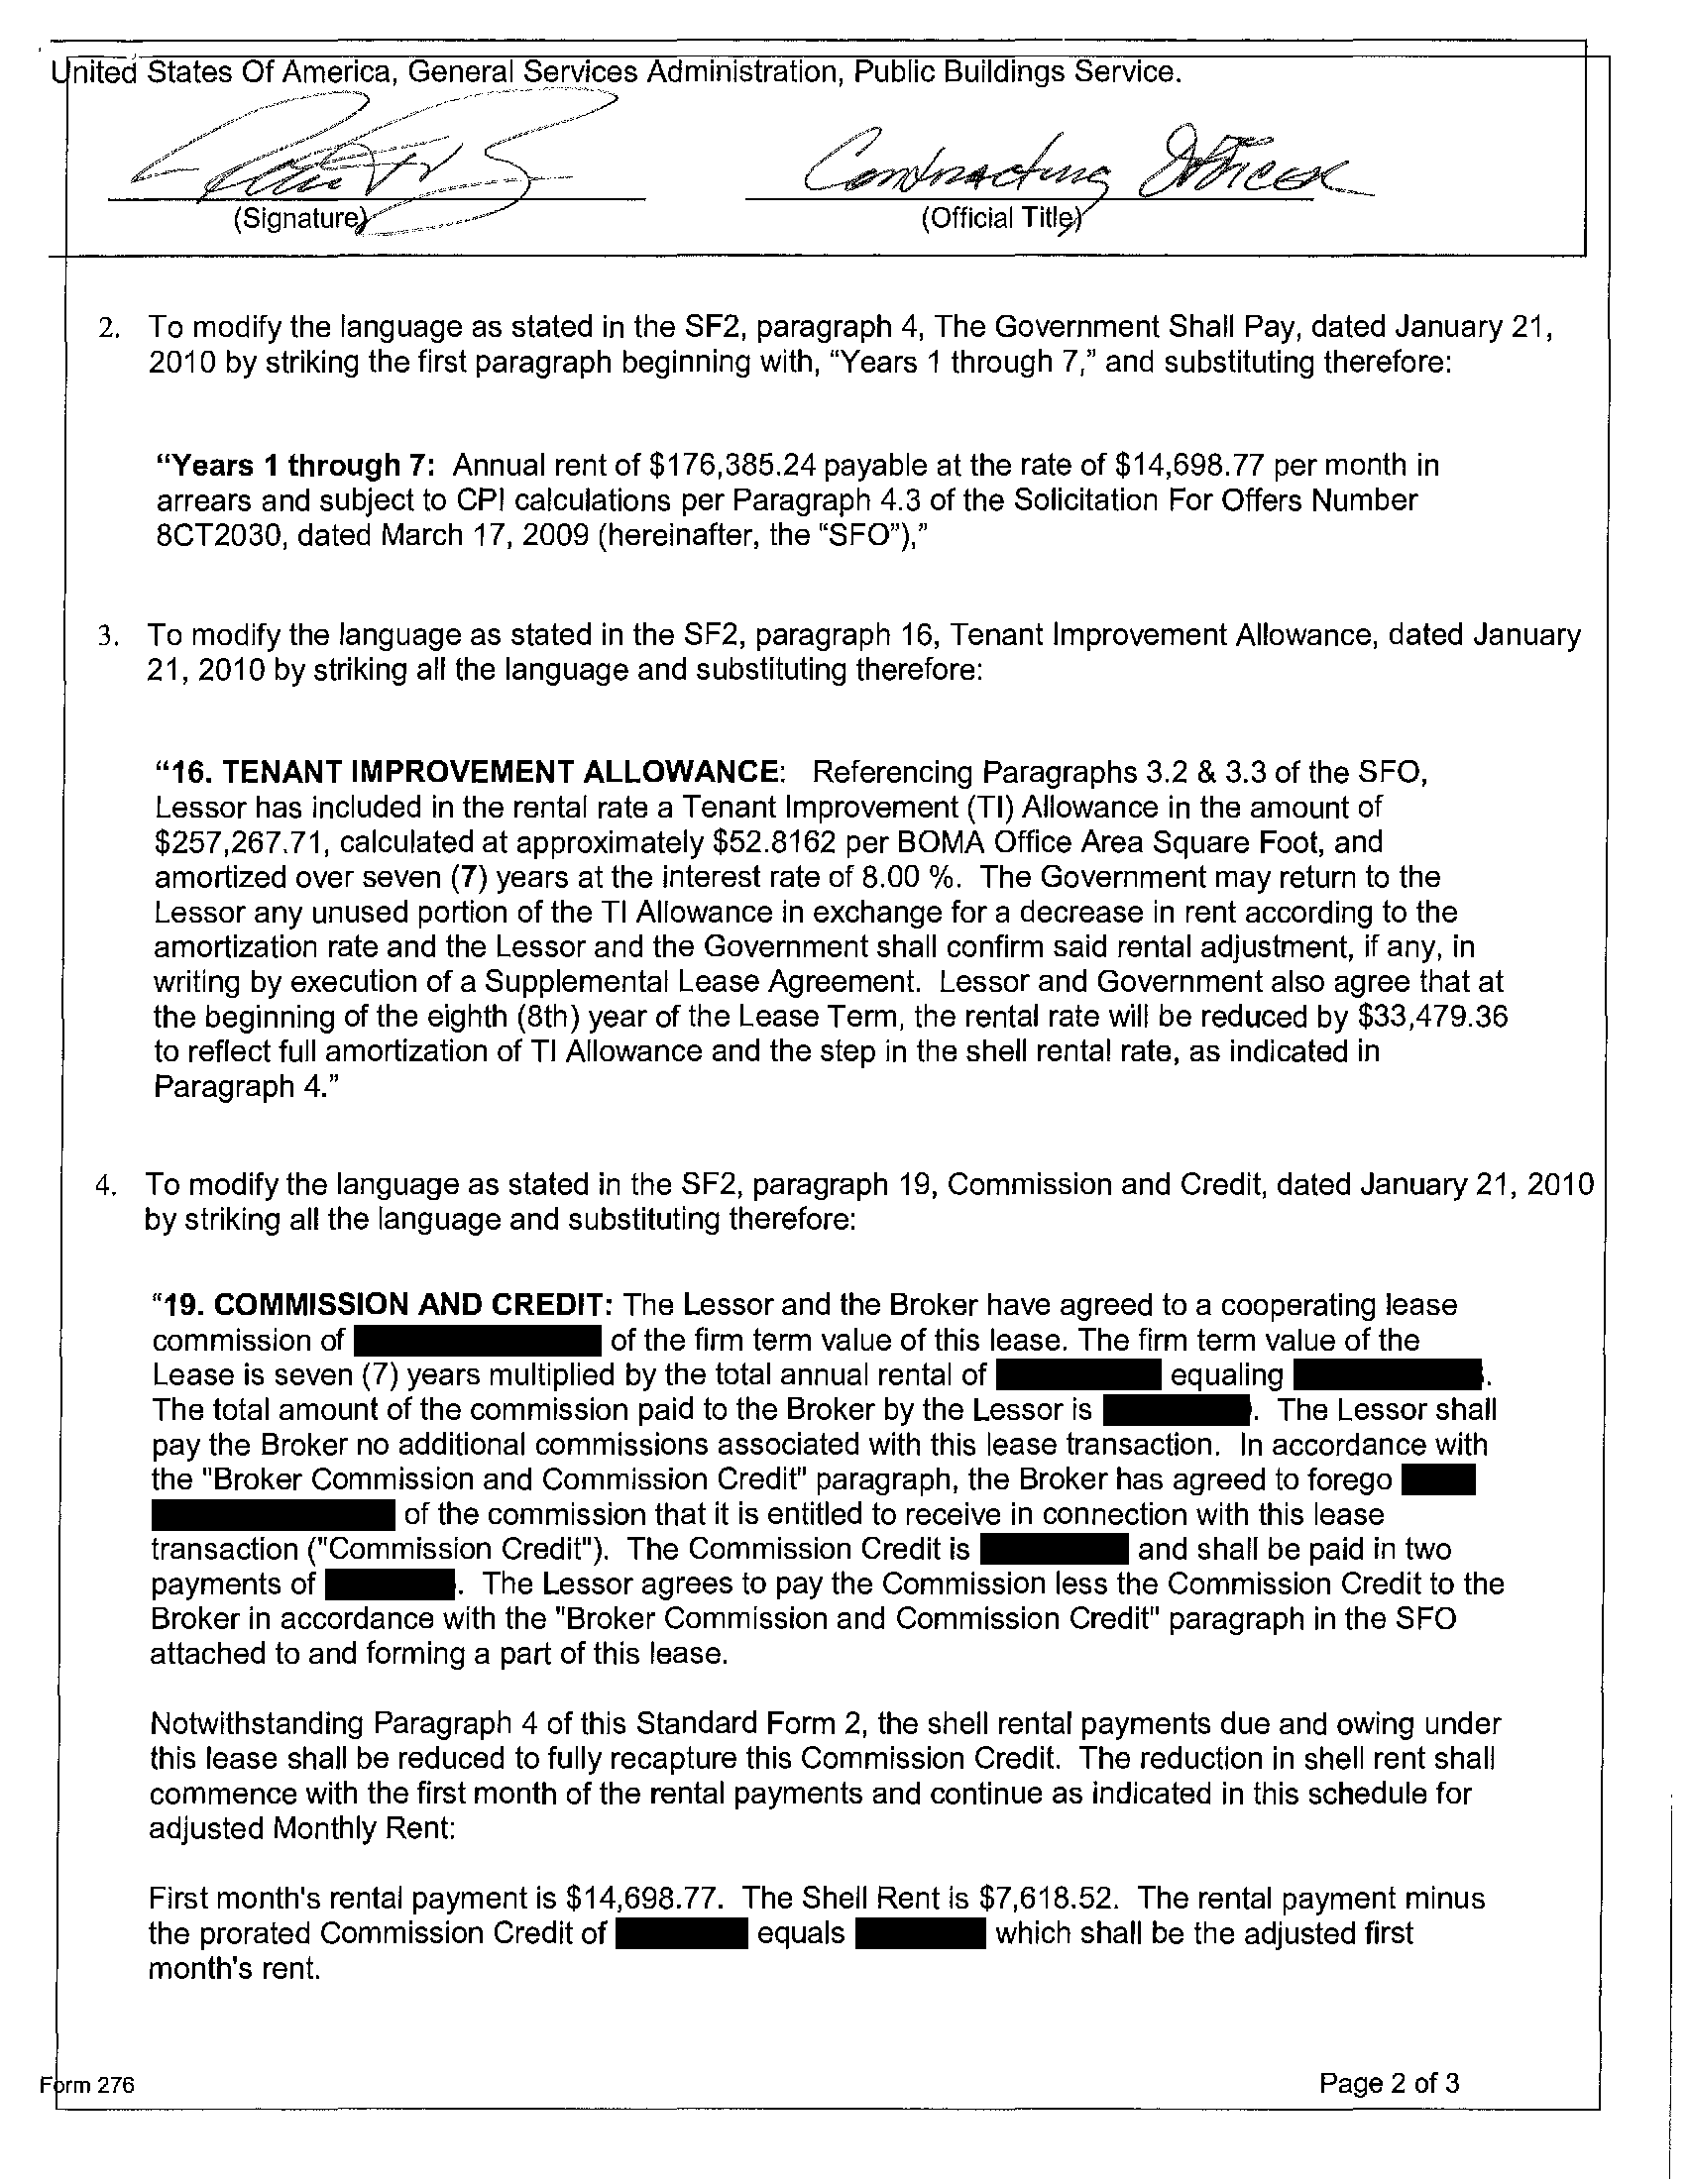handwritten: (783, 112, 1395, 204), (105, 97, 642, 197)
